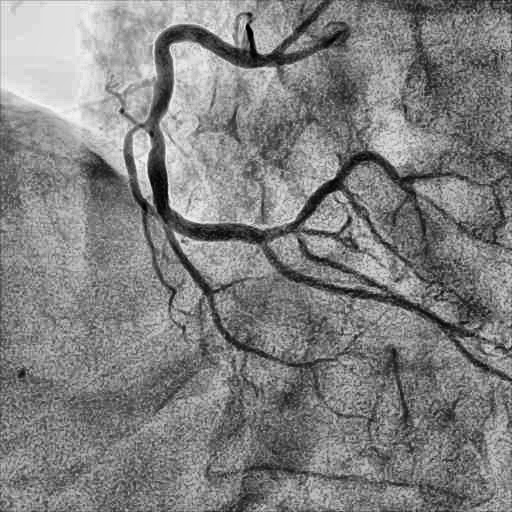pborca: (270, 151, 402, 238)
pda: (263, 245, 402, 306)
rca: (147, 24, 269, 246)
